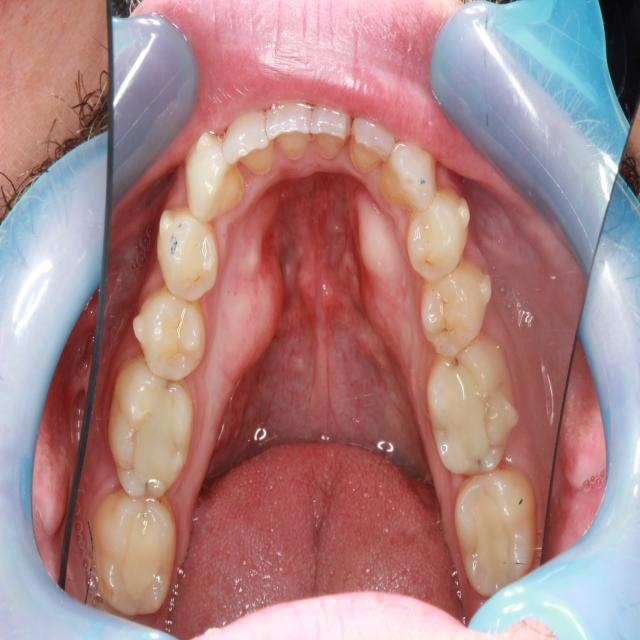tooth: (105, 349, 200, 504), (421, 334, 521, 473), (448, 454, 543, 599), (86, 479, 178, 618), (414, 258, 495, 360), (130, 280, 209, 384), (151, 203, 224, 304), (405, 181, 471, 287), (183, 125, 248, 225), (378, 133, 439, 213), (222, 105, 275, 183), (266, 88, 313, 170), (345, 109, 396, 177), (309, 98, 352, 164)
